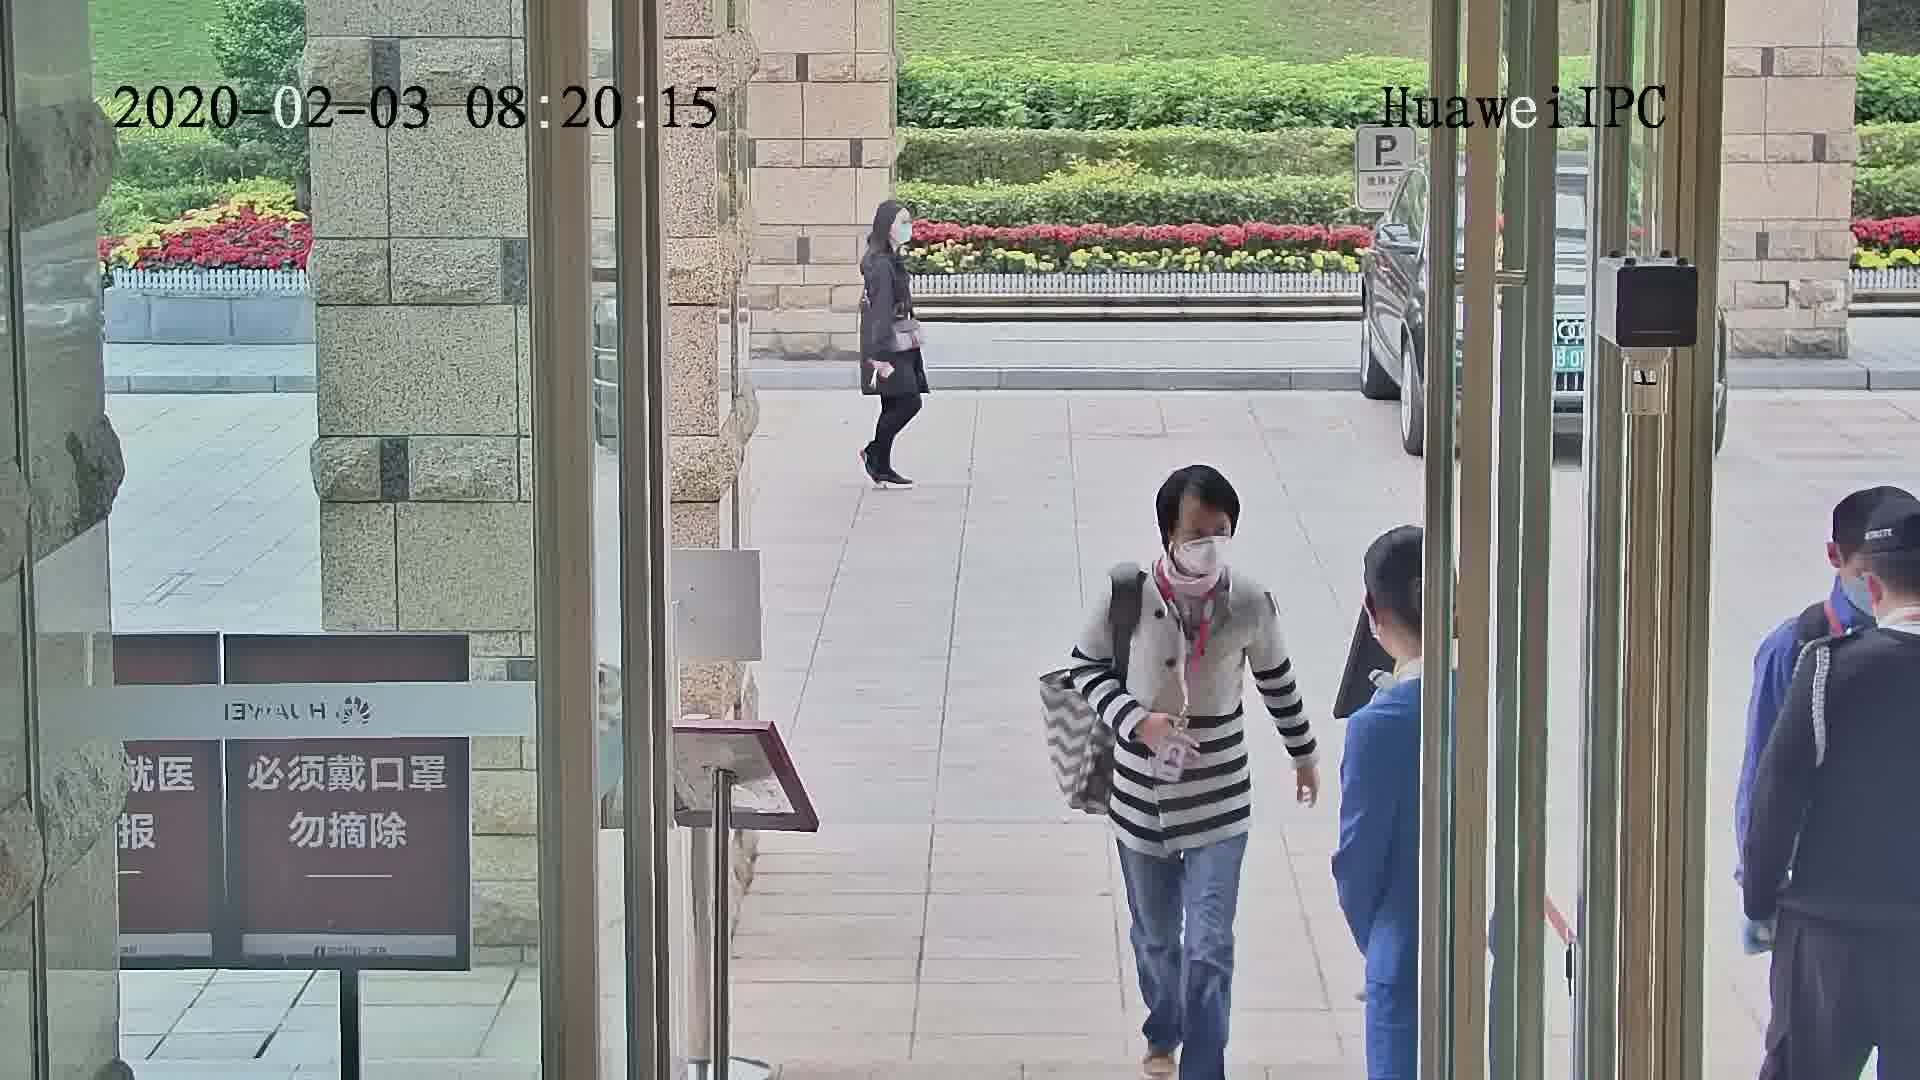face: (1169, 502, 1231, 575), (894, 209, 913, 247)
mask: (1170, 531, 1241, 577), (898, 222, 915, 245)
person: (1772, 486, 1920, 717), (1097, 459, 1275, 648), (1343, 514, 1431, 776), (861, 196, 910, 280)
